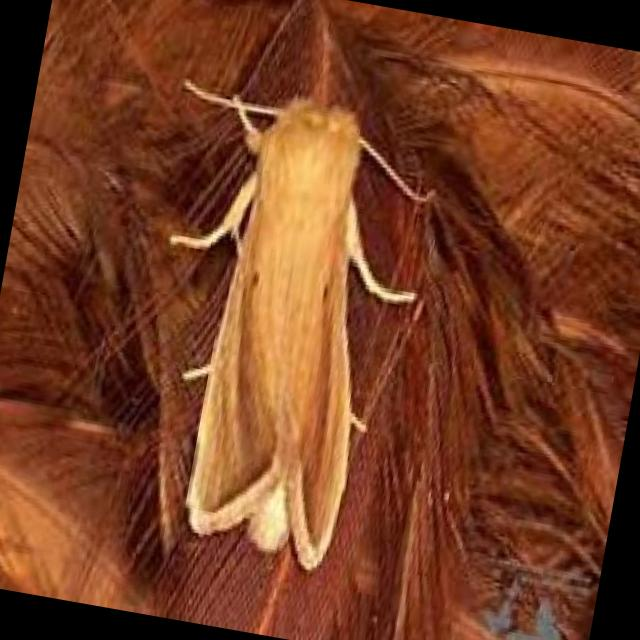stem-borer: (172, 77, 416, 578)
